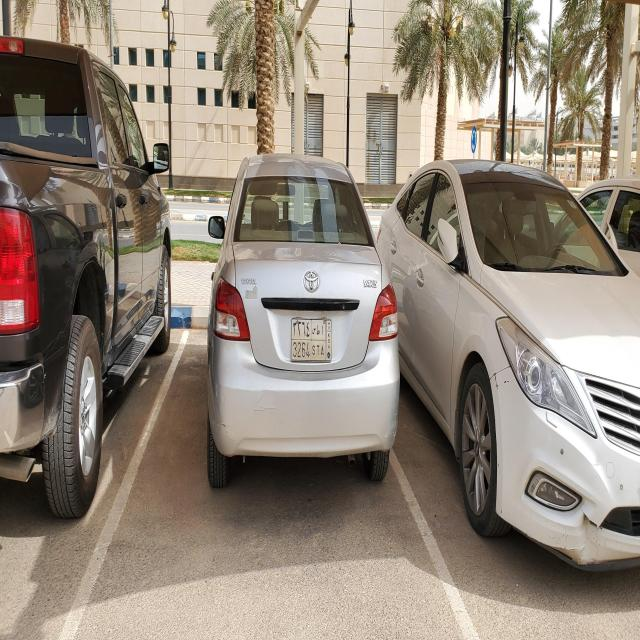license_plate: (291, 318, 331, 361)
